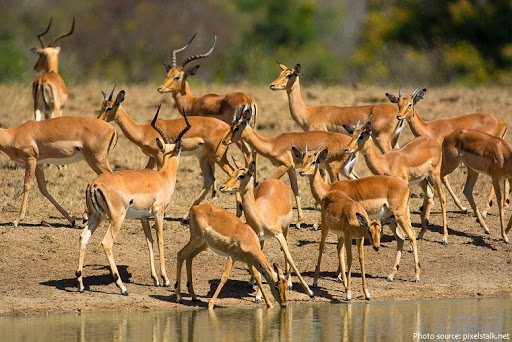impala: (70, 103, 192, 297), (288, 141, 424, 286), (219, 100, 363, 222), (382, 81, 511, 214), (268, 56, 410, 171), (339, 115, 455, 248), (93, 84, 236, 190), (217, 154, 319, 300), (156, 31, 267, 160), (173, 201, 294, 317), (1, 116, 121, 221), (305, 186, 396, 303), (24, 13, 82, 122)
